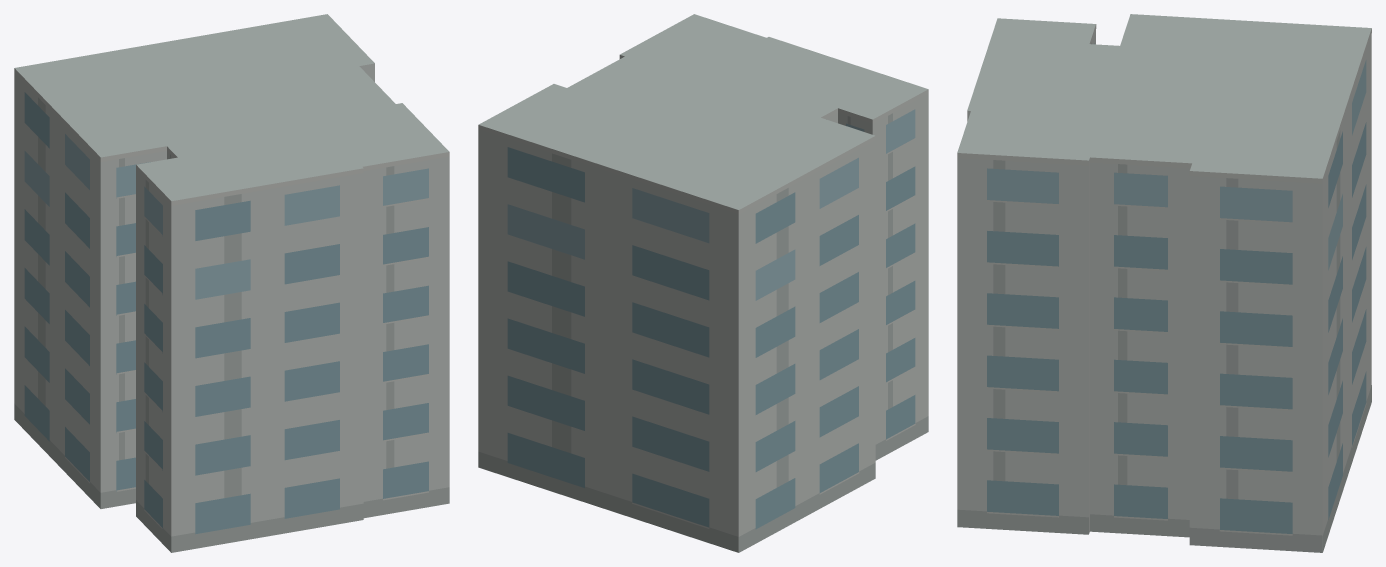
The model's file is survey-upis-32825709.glb.
3 views of the same model, side by side, from view 1: azimuth 30°, elevation 25°; view 2: azimuth 150°, elevation 25°; view 3: azimuth 270°, elevation 25° (orthographic). The views are drawn at different scales.
Visible parts, largest first — view 1: survey-upis-32825709.tmp; view 2: survey-upis-32825709.tmp; view 3: survey-upis-32825709.tmp.
Boxes of the visible parts, <box> form: survey-upis-32825709.tmp: <box>14,14,449,552</box>; survey-upis-32825709.tmp: <box>478,14,928,552</box>; survey-upis-32825709.tmp: <box>957,14,1371,552</box>.
Size of the model in its own units: 17.29 by 18.3 by 18.39.
